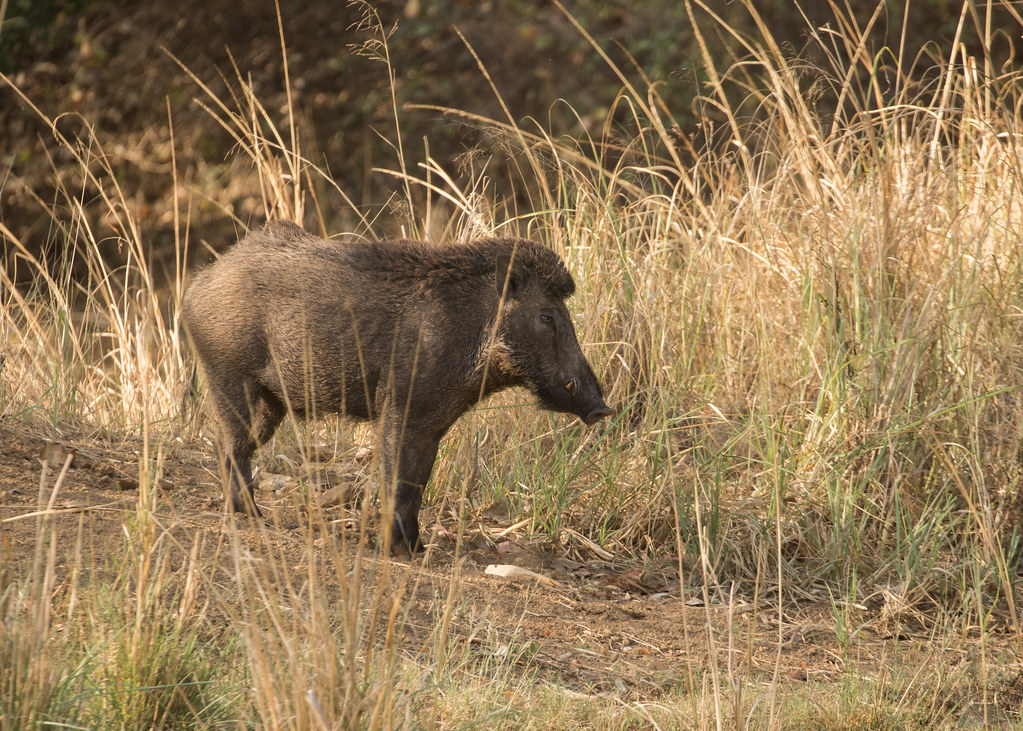wild boar: (168, 210, 626, 593)
